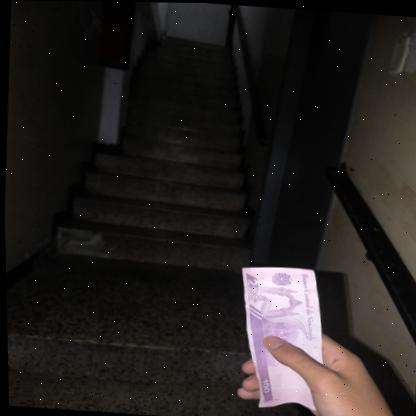one_hundred-back-vef: (233, 262, 327, 411)
